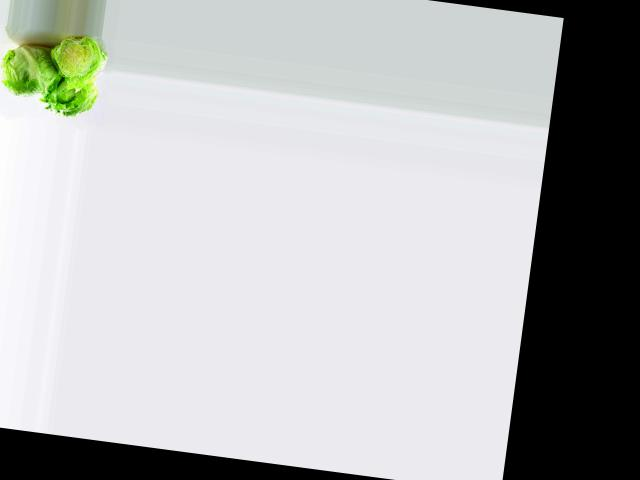lettuce: (35, 68, 101, 124)
